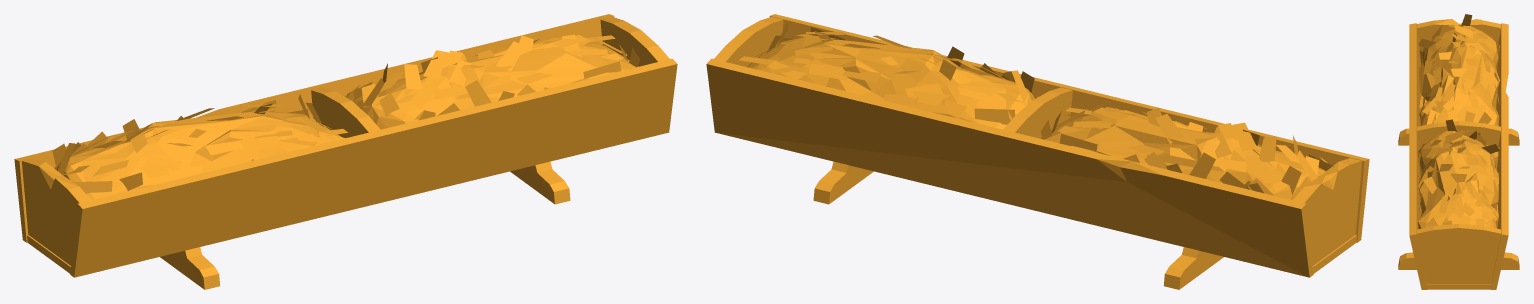
Rendered from SM_Trough_C_Full.fbx.
3 renders of one model, left to right at view 1: azimuth 30°, elevation 25°; view 2: azimuth 150°, elevation 25°; view 3: azimuth 270°, elevation 25°, orthographic. The views are drawn at different scales.
Parts seen in each view (by area): view 1: trough-c-full; view 2: trough-c-full; view 3: trough-c-full.
Part boxes in pixels (x1=…): trough-c-full: x1=14, y1=14, x2=677, y2=289; trough-c-full: x1=706, y1=14, x2=1369, y2=289; trough-c-full: x1=1398, y1=14, x2=1519, y2=289.
Bounding box in the file's own units: 2 × 0.4418 × 0.4849.
